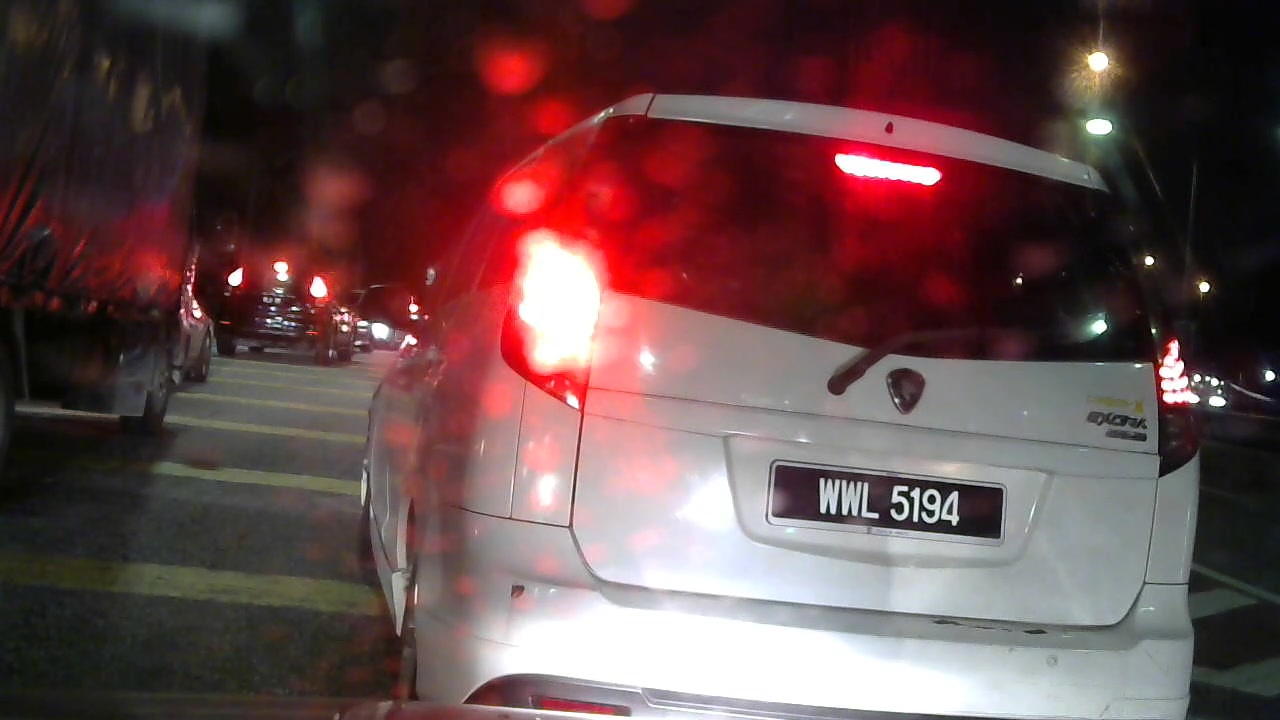Car: (364, 68, 1216, 714), (207, 247, 360, 361)
